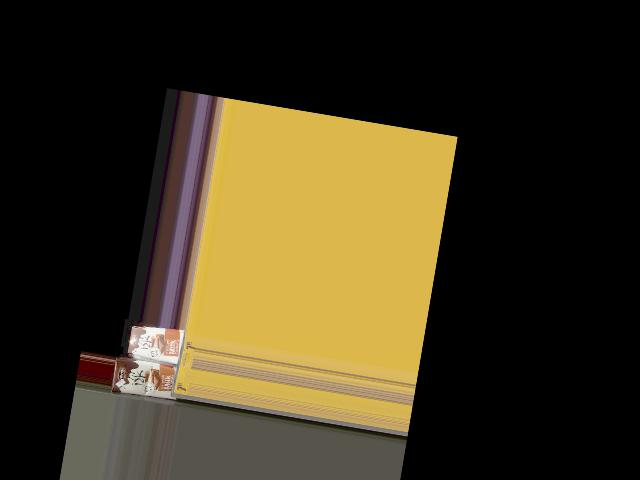chocolate: (125, 318, 191, 365)
